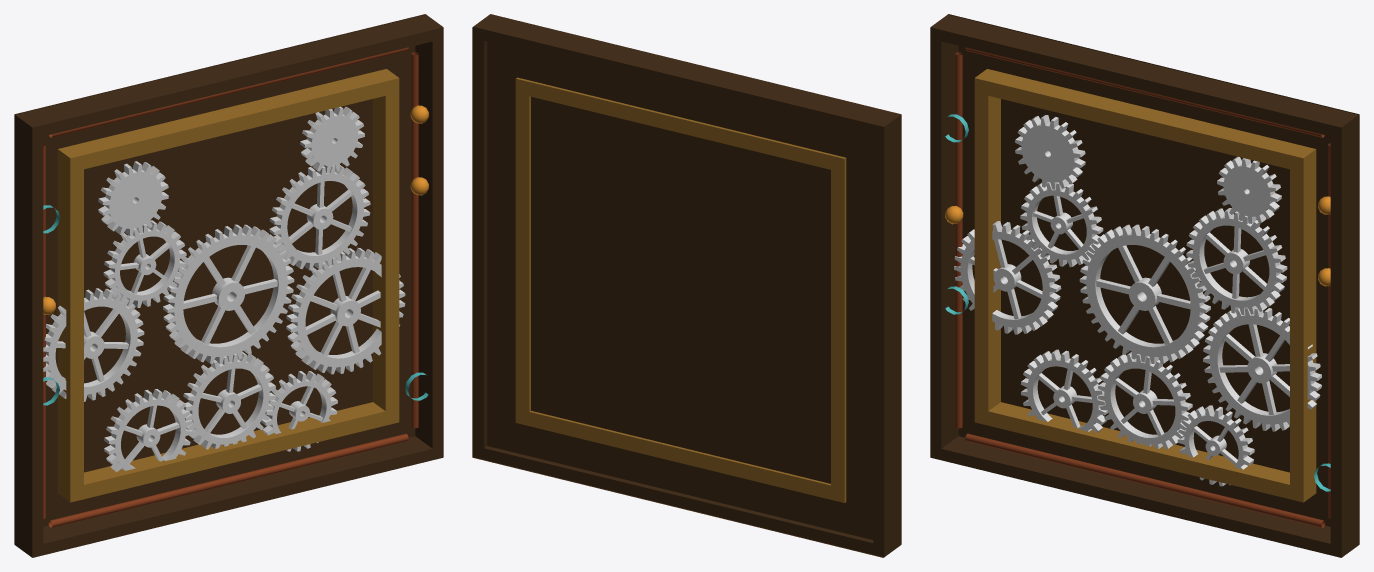
File: gear.fbx
3 renders of one model, left to right at view 1: azimuth 30°, elevation 25°; view 2: azimuth 150°, elevation 25°; view 3: azimuth 330°, elevation 25°, orthographic.
Visible parts, largest first — view 1: static_parts, gear_00, gear_06, gear_02, gear_04, gear_03, gear_01, gear_08, gear_05, gear_07, gear_09; view 2: static_parts; view 3: static_parts, gear_00, gear_06, gear_02, gear_04, gear_03, gear_01, gear_05, gear_08, gear_07, gear_09.
Boxes of the visible parts, x1=… form: static_parts: x1=14, y1=14, x2=443, y2=557; gear_00: x1=163, y1=224, x2=294, y2=363; gear_06: x1=286, y1=248, x2=405, y2=374; gear_02: x1=269, y1=165, x2=370, y2=270; gear_04: x1=43, y1=288, x2=144, y2=401; gear_03: x1=183, y1=352, x2=275, y2=449; gear_01: x1=103, y1=220, x2=186, y2=307; gear_08: x1=104, y1=389, x2=192, y2=471; gear_05: x1=98, y1=161, x2=168, y2=235; gear_07: x1=300, y1=106, x2=364, y2=173; gear_09: x1=261, y1=371, x2=337, y2=451; static_parts: x1=472, y1=14, x2=901, y2=557; static_parts: x1=930, y1=14, x2=1359, y2=557; gear_00: x1=1079, y1=224, x2=1210, y2=363; gear_06: x1=1203, y1=307, x2=1321, y2=431; gear_02: x1=1186, y1=208, x2=1287, y2=314; gear_04: x1=954, y1=221, x2=1061, y2=334; gear_03: x1=1098, y1=352, x2=1192, y2=449; gear_01: x1=1020, y1=182, x2=1103, y2=267; gear_05: x1=1015, y1=115, x2=1085, y2=189; gear_08: x1=1020, y1=349, x2=1108, y2=432; gear_07: x1=1217, y1=156, x2=1281, y2=223; gear_09: x1=1177, y1=405, x2=1254, y2=486.
Size of the model in its own units: 15 by 15 by 1.15.
